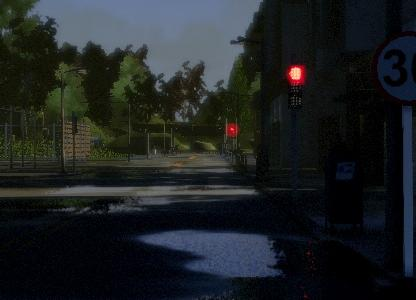Speed_30: (369, 31, 416, 108)
